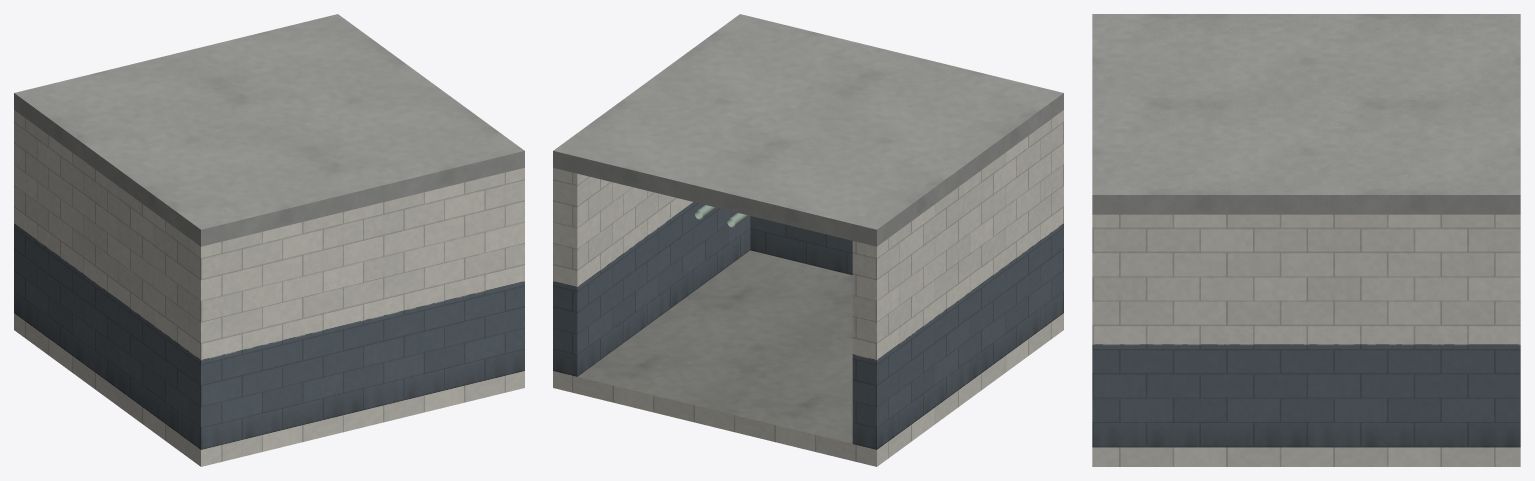
File: Corridor_Basement_End.glb
3 views of the same model, side by side, from view 1: azimuth 30°, elevation 25°; view 2: azimuth 150°, elevation 25°; view 3: azimuth 270°, elevation 25° (orthographic). The views are drawn at different scales.
Parts seen in each view (by area): view 1: Corridor_Basement_End, Corridor_Basement_End_Ceiling; view 2: Corridor_Basement_End, Corridor_Basement_End_Ceiling; view 3: Corridor_Basement_End, Corridor_Basement_End_Ceiling.
Boxes of the visible parts, x1=… form: Corridor_Basement_End: x1=14, y1=110, x2=524, y2=466; Corridor_Basement_End_Ceiling: x1=14, y1=14, x2=524, y2=246; Corridor_Basement_End: x1=553, y1=110, x2=1063, y2=466; Corridor_Basement_End_Ceiling: x1=553, y1=14, x2=1063, y2=246; Corridor_Basement_End: x1=1092, y1=214, x2=1520, y2=466; Corridor_Basement_End_Ceiling: x1=1092, y1=14, x2=1520, y2=214.
Size of the model in its own units: 4 by 2.8 by 4.
6 materials, 3 textured.
